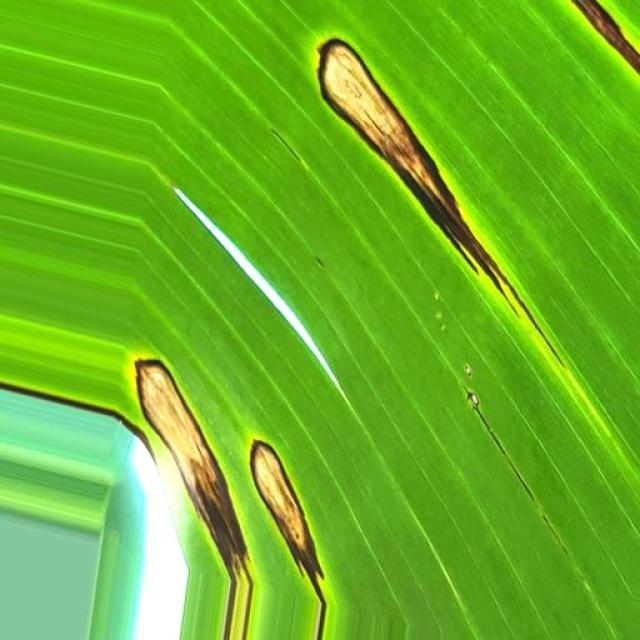Early_rust: (59, 331, 357, 640), (260, 6, 539, 327)
